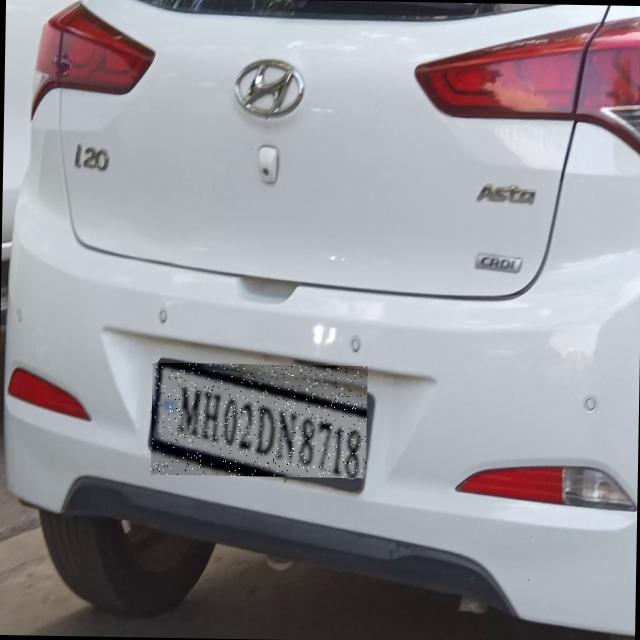Plate: (151, 363, 368, 479)
